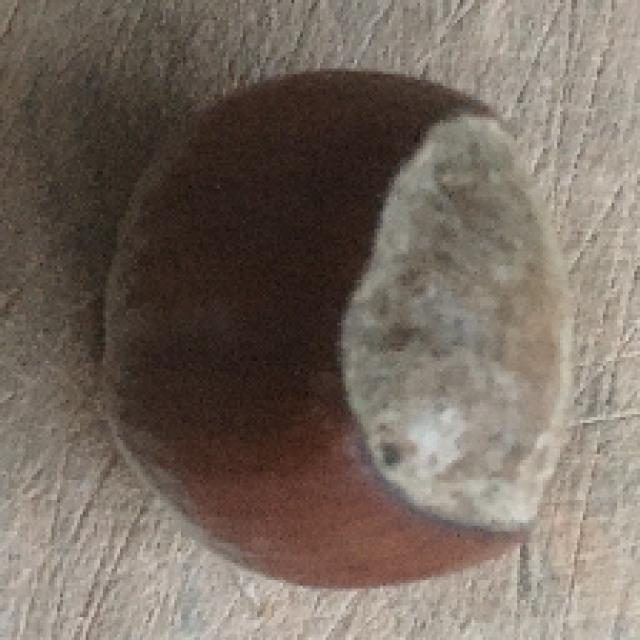qualityHazelnut: (95, 66, 574, 587)
